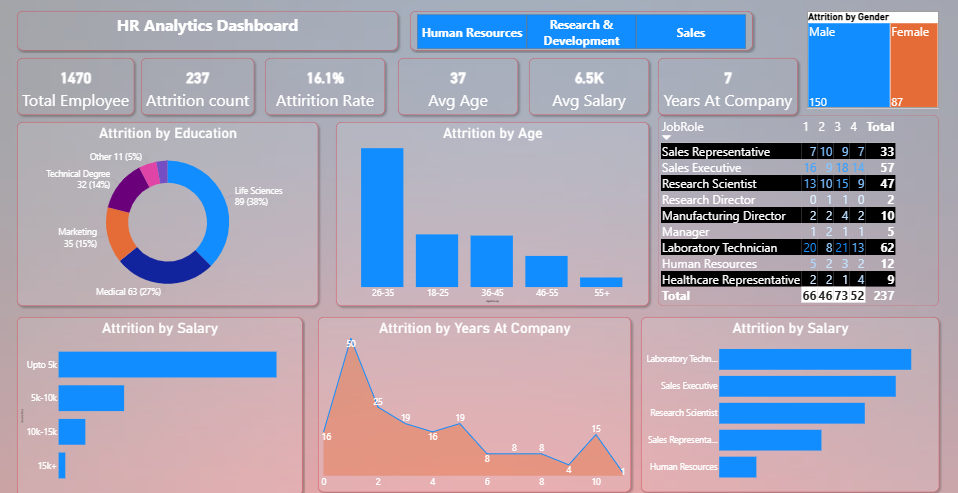

What the dashboard file says about the page in this screenshot:
{"tool":"powerbi","page":{"name":"Report","canvas":[4800,2500],"ordinal":0},"visuals":[{"type":"card","fields":{"Values":["Sum(HR_Analytics.Attrition count)"]},"box":[703.7,290.4,565.9,285.4],"z":0},{"type":"card","fields":{"Values":["Sum(HR_Analytics.EmployeeCount)"]},"box":[83.7,290.4,585.6,285.4],"z":1000},{"type":"card","fields":{"Values":["HR_Analytics.Attirition Rate"]},"box":[1323.8,290.4,600.4,285.4],"z":2000},{"type":"card","fields":{"Values":["Avg(HR_Analytics.Age)"]},"box":[1988.2,290.4,600.4,285.4],"z":3000},{"type":"card","fields":{"Values":["Avg(HR_Analytics.MonthlyIncome)"]},"box":[2642.7,290.4,600.4,285.4],"z":4000},{"type":"card","fields":{"Values":["Avg(HR_Analytics.YearsAtCompany)"]},"box":[3292.3,290.4,698.8,285.4],"z":5000},{"type":"donutChart","title":"Attrition by Education","fields":{"Y":["Sum(HR_Analytics.Attrition count)"],"Category":["HR_Analytics.EducationField"]},"box":[83.7,610.2,1505.9,920.3],"z":6000},{"type":"columnChart","title":"Attrition by Age ","fields":{"Y":["Sum(HR_Analytics.Attrition count)"],"Category":["HR_Analytics.AgeGroup"]},"box":[1678.1,610.2,1565,920.3],"z":7000},{"type":"pivotTable","fields":{"Rows":["HR_Analytics.JobRole"],"Columns":["HR_Analytics.JobSatisfaction"],"Values":["Sum(HR_Analytics.Attrition count)"]},"box":[3292.3,575.8,1402.6,954.7],"z":8000},{"type":"clusteredBarChart","title":"Attrition by Salary","fields":{"Category":["HR_Analytics.SalarySlab"],"Y":["Sum(HR_Analytics.Attrition count)"]},"box":[83.7,1584.6,1427.2,895.7],"z":9000},{"type":"clusteredBarChart","title":"Attrition by Salary","fields":{"Y":["Sum(HR_Analytics.Attrition count)"],"Category":["HR_Analytics.JobRole"]},"box":[3203.7,1584.6,1491.1,876],"z":10000},{"type":"areaChart","title":"Attrition by Years At Company","fields":{"Y":["Sum(HR_Analytics.Attrition count)"],"Category":["HR_Analytics.YearsAtCompany"]},"box":[1589.6,1584.6,1565,876],"z":11000},{"type":"treemap","title":"Attrition  by Gender","fields":{"Details":["HR_Analytics.Gender"],"Values":["Sum(HR_Analytics.Attrition count)"]},"box":[4035.4,54.1,659.4,487.2],"z":12000},{"type":"slicer","fields":{"Values":["HR_Analytics.Department"]},"box":[2052.2,54.1,1712.6,196.9],"z":13000},{"type":"textbox","box":[83.7,54.1,1904.5,196.9],"z":14000}]}

Visuals, with their boxes in screenshot pixels (x1, y1, x2, y2), scaled from the page's 4800x2500 canvas onto the 958x493 screenshot:
card - Sum(HR_Analytics.Attrition count): box(140, 57, 253, 114)
card - Sum(HR_Analytics.EmployeeCount): box(17, 57, 134, 114)
card - HR_Analytics.Attirition Rate: box(264, 57, 384, 114)
card - Avg(HR_Analytics.Age): box(397, 57, 517, 114)
card - Avg(HR_Analytics.MonthlyIncome): box(527, 57, 647, 114)
card - Avg(HR_Analytics.YearsAtCompany): box(657, 57, 797, 114)
"Attrition by Education" donutChart: box(17, 120, 317, 302)
"Attrition by Age " columnChart: box(335, 120, 647, 302)
pivotTable - HR_Analytics.JobRole x HR_Analytics.JobSatisfaction: box(657, 114, 937, 302)
"Attrition by Salary" clusteredBarChart: box(17, 312, 302, 489)
"Attrition by Salary" clusteredBarChart: box(639, 312, 937, 485)
"Attrition by Years At Company" areaChart: box(317, 312, 630, 485)
"Attrition  by Gender" treemap: box(805, 11, 937, 107)
slicer - HR_Analytics.Department: box(410, 11, 751, 49)
textbox: box(17, 11, 397, 49)
